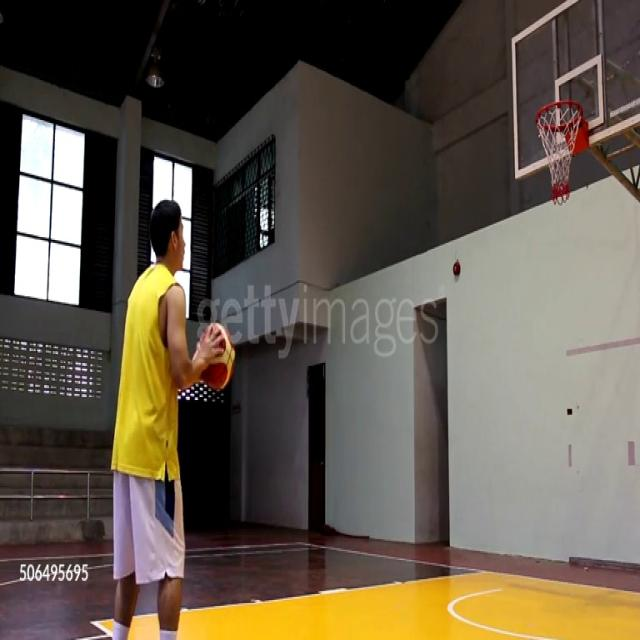ball: (198, 325, 237, 391)
